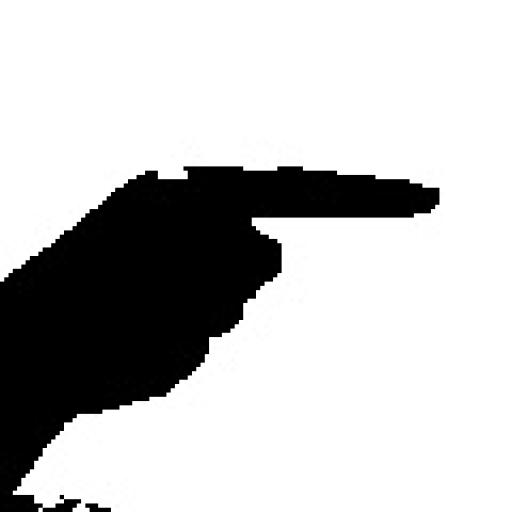index_right: (0, 165, 440, 375)
